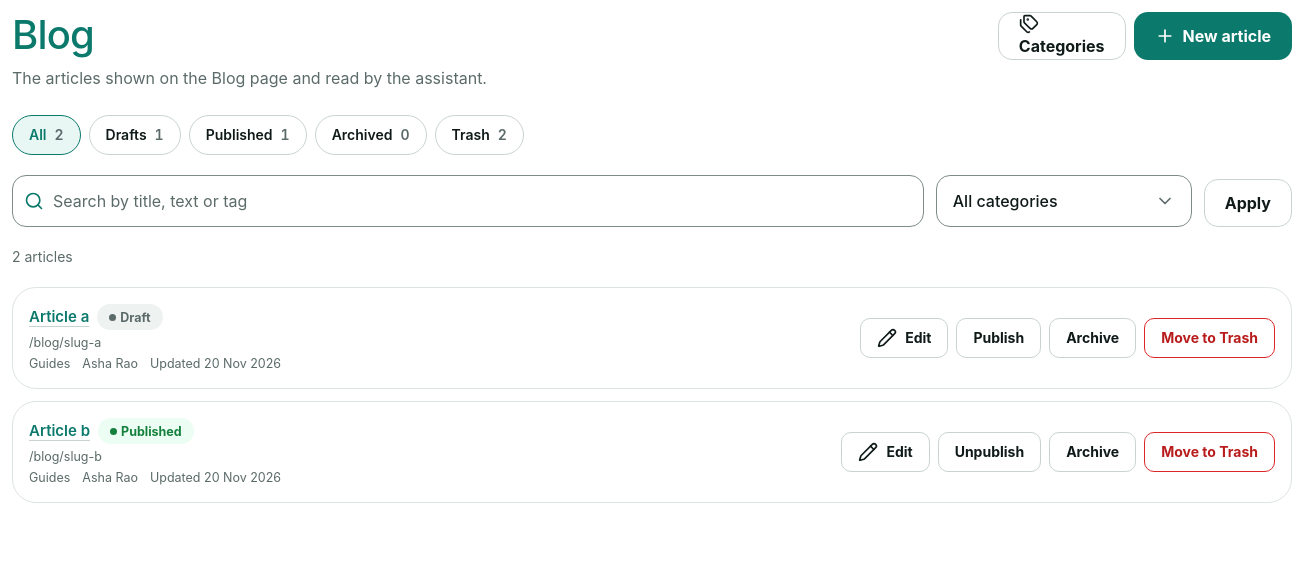
it: BlogAdminBoard (ADR-143): the admin's list › says why a publish is refused (no summary yet), above the list and in a toast, and does not say it worked
The image size is (1304, 587).
Click the button named "Publish Article a" at [999, 338], box [956,318,1041,358]
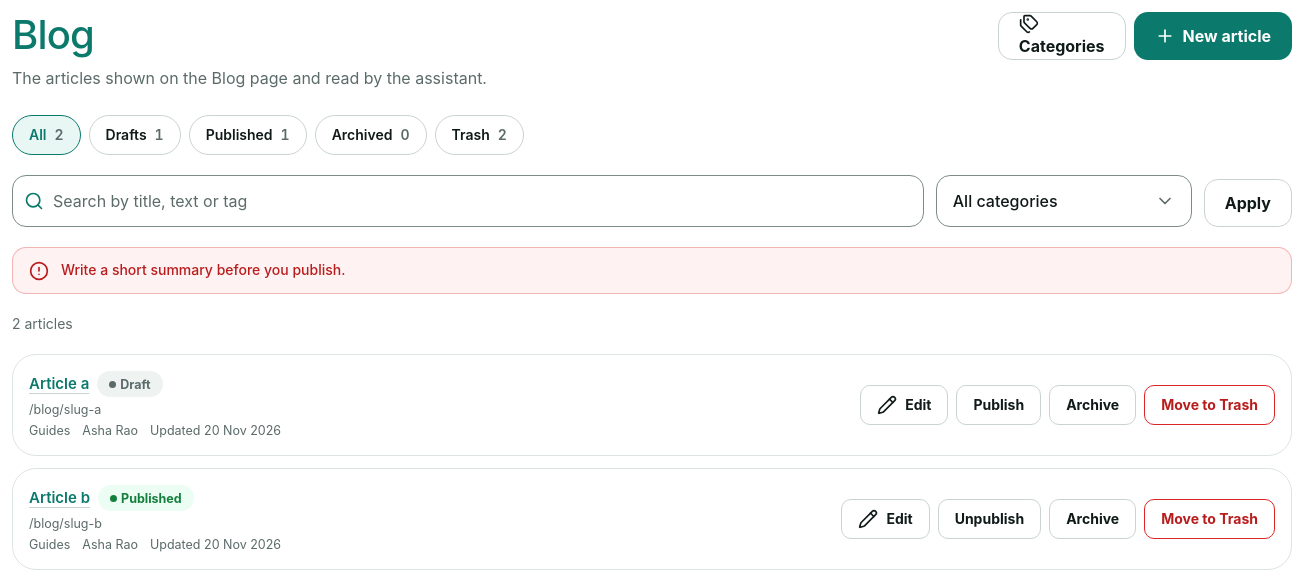
Expected: the message reads "Write a short summary before you publish.", [61,261,345,278]
